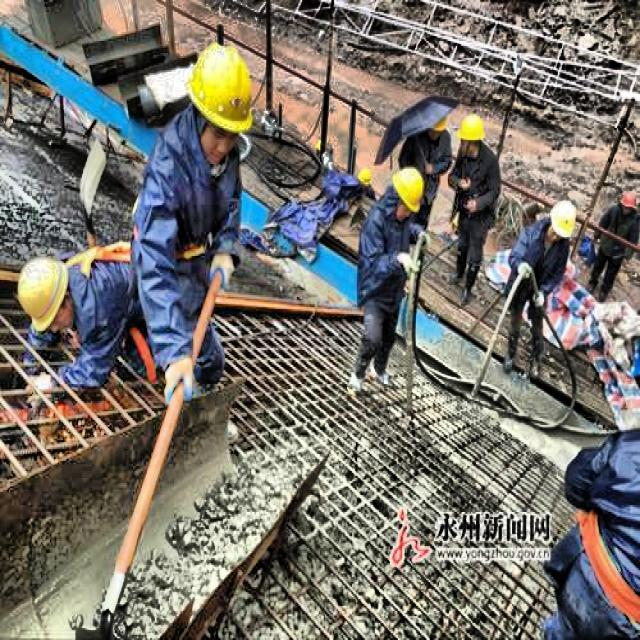helmet: (179, 36, 264, 164), (15, 249, 78, 335), (545, 195, 584, 254), (388, 167, 426, 220), (453, 111, 487, 160), (618, 184, 639, 224)
